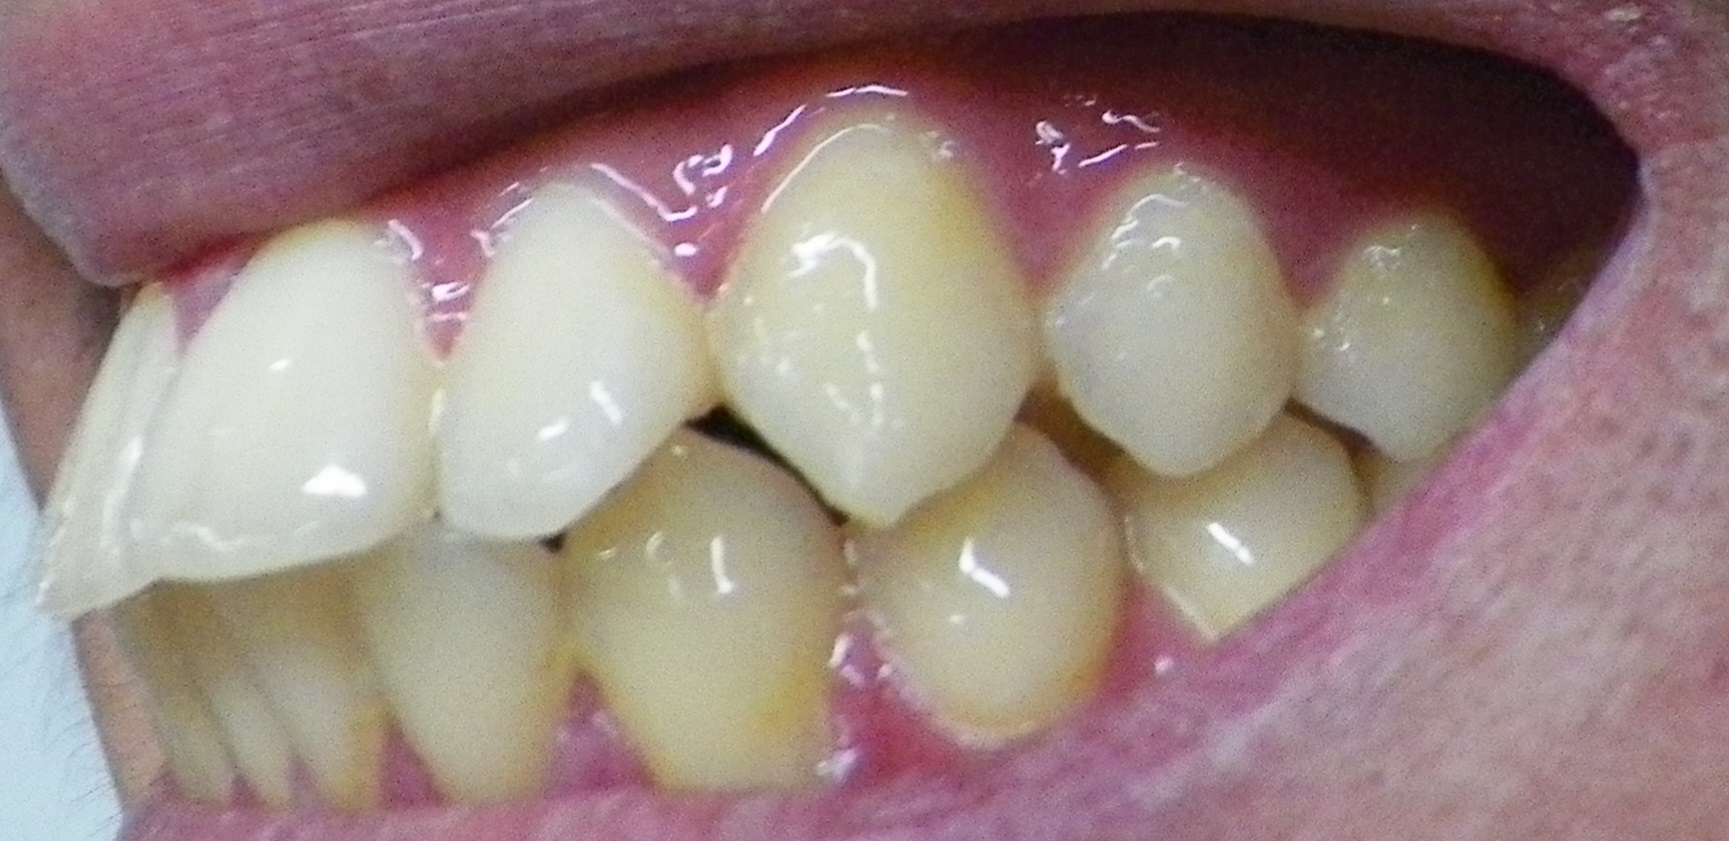boca: (37, 137, 1594, 811)
